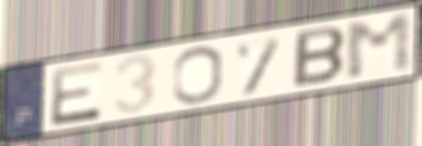3: (111, 51, 164, 117)
7: (234, 32, 284, 98)
B: (290, 24, 348, 90)
E: (47, 59, 106, 129)
M: (342, 10, 416, 83)
O: (171, 43, 226, 106)
